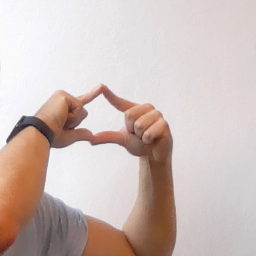J: (38, 81, 176, 162)
